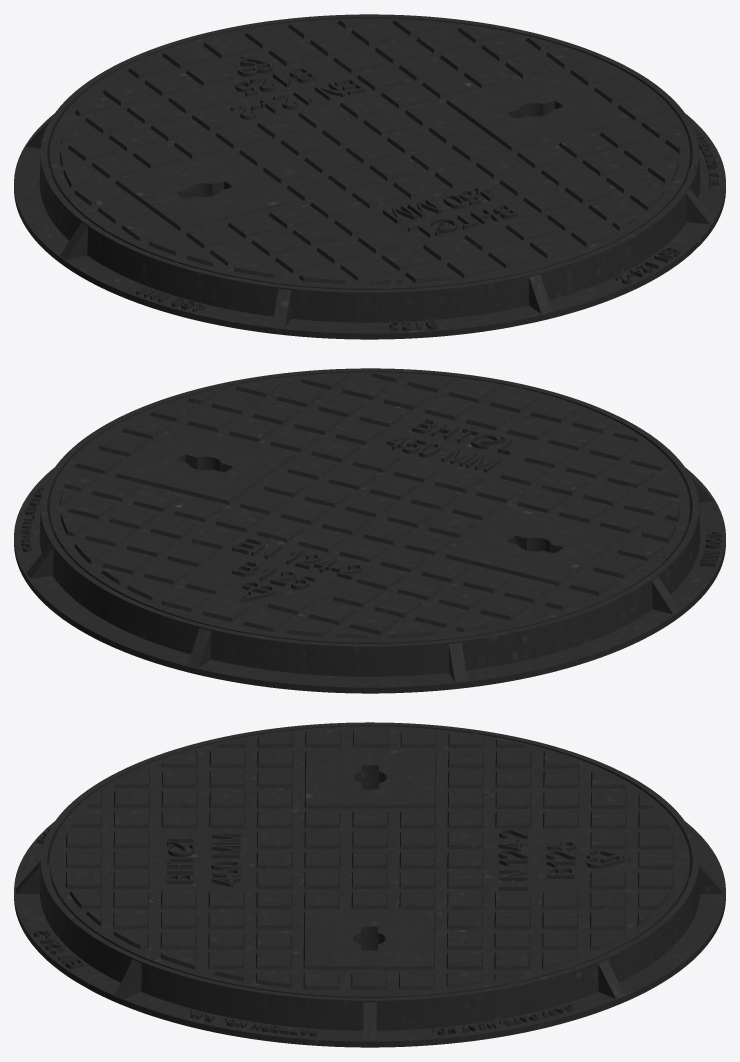
File: 450-dia-b125-cvr-and-frm.glb
3 renders of one model, top to bottom at view 1: azimuth 30°, elevation 25°; view 2: azimuth 150°, elevation 25°; view 3: azimuth 270°, elevation 25°, orthographic.
Visible parts, largest first — view 1: NAUO2_high; view 2: NAUO2_high; view 3: NAUO2_high.
Boxes of the visible parts, <box> form: NAUO2_high: <box>14,14,725,339</box>; NAUO2_high: <box>14,368,725,693</box>; NAUO2_high: <box>14,722,725,1047</box>.
Size of the model in its own units: 0.5449 by 0.048 by 0.545.
Materials: 1 (1 with a texture image).
